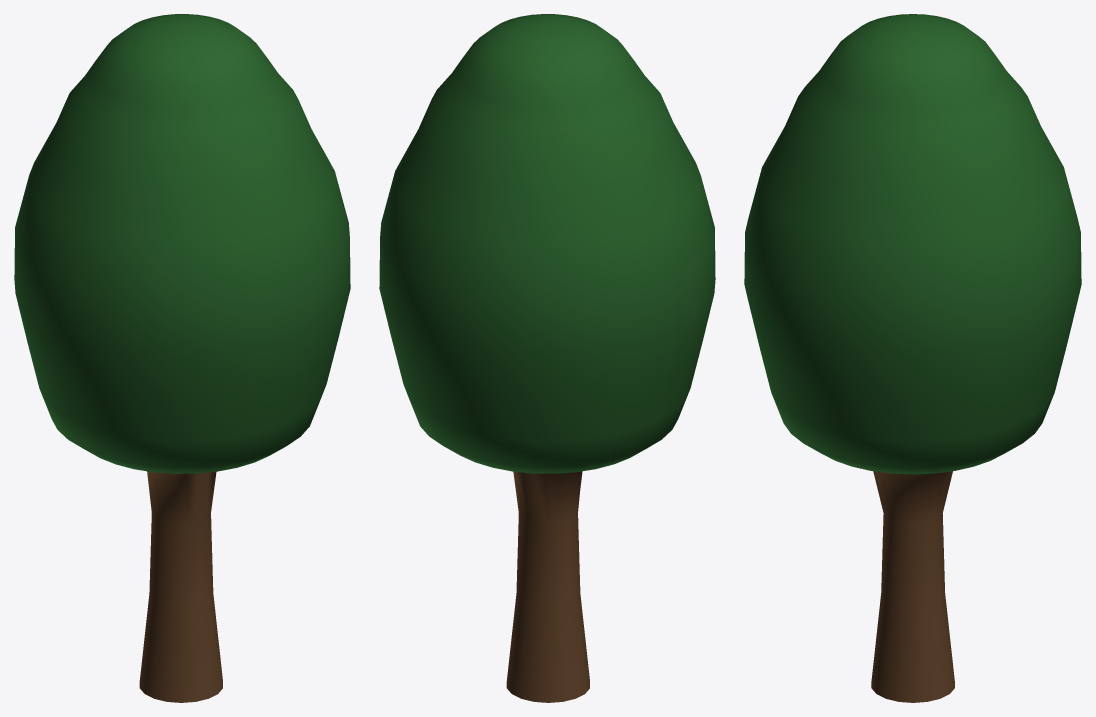
Rendered from tree1.fbx.
The picture shows the model from 3 angles, left to right: view 1: azimuth 30°, elevation 25°; view 2: azimuth 150°, elevation 25°; view 3: azimuth 270°, elevation 25°; orthographic projection.
Parts seen in each view (by area): view 1: tree1; view 2: tree1; view 3: tree1.
Boxes of the visible parts, x1,y1,x2,y2 form: tree1: [14, 14, 350, 702]; tree1: [379, 14, 715, 702]; tree1: [744, 14, 1081, 702].
Size of the model in its own units: 107 by 231 by 107.
Materials: 1 (1 with a texture image).
